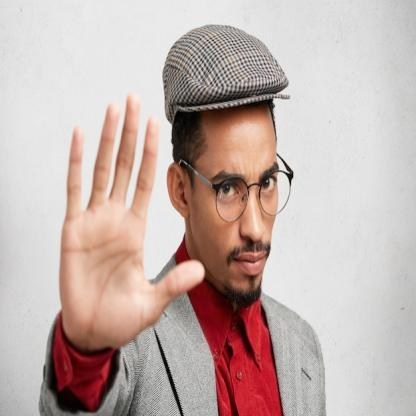stop: (61, 88, 210, 348)
